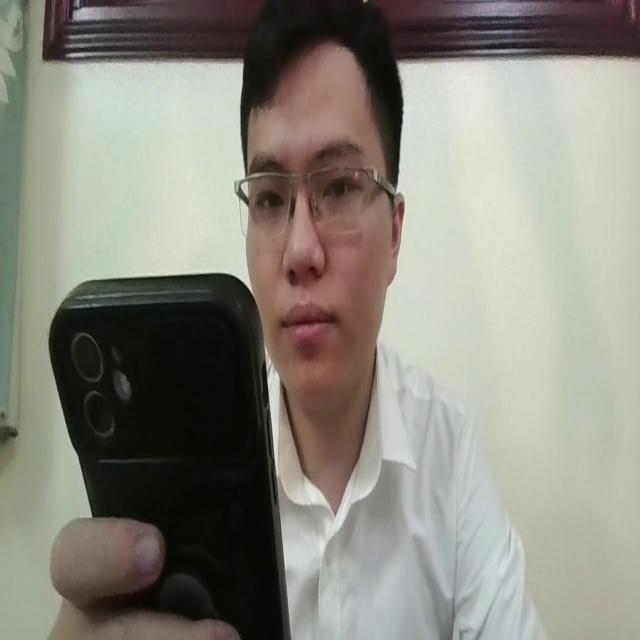phone: (43, 250, 294, 640)
student: (232, 2, 548, 640)
